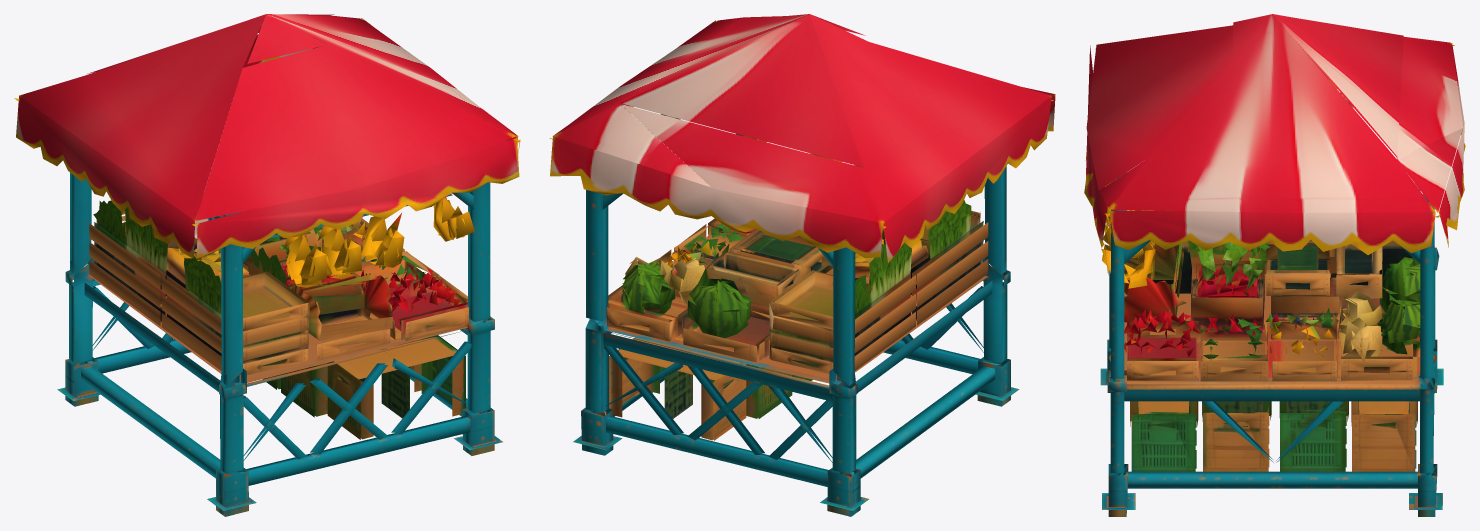
The model's file is tripo_convert_604263cf-fad1-41dd-9715-bfb5e8cadf5b_lo.glb.
The picture shows the model from 3 angles, left to right: view 1: azimuth 30°, elevation 25°; view 2: azimuth 150°, elevation 25°; view 3: azimuth 270°, elevation 25°; orthographic projection. The views are drawn at different scales.
Parts seen in each view (by area): view 1: tripo_node_604263cf-fad1-41dd-9715-bfb5e8cadf5b; view 2: tripo_node_604263cf-fad1-41dd-9715-bfb5e8cadf5b; view 3: tripo_node_604263cf-fad1-41dd-9715-bfb5e8cadf5b.
Boxes of the visible parts, bbox=[...] form: tripo_node_604263cf-fad1-41dd-9715-bfb5e8cadf5b: bbox=[14, 14, 520, 516]; tripo_node_604263cf-fad1-41dd-9715-bfb5e8cadf5b: bbox=[550, 14, 1055, 516]; tripo_node_604263cf-fad1-41dd-9715-bfb5e8cadf5b: bbox=[1084, 14, 1465, 516].
Size of the model in its own units: 0.8725 by 0.9995 by 0.8072.
Materials: 1 (1 with a texture image).
